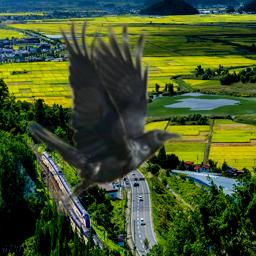Crow: (29, 17, 183, 216)
